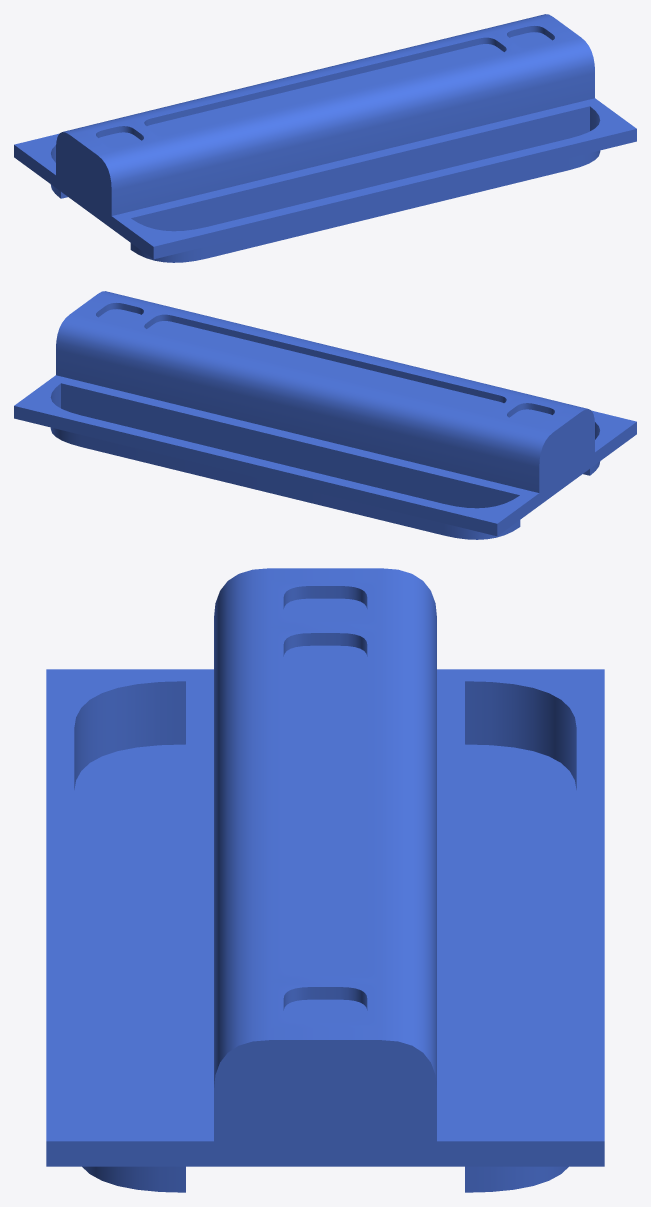
File: Ceiling_4x2m_D.FBX
3 renders of one model, top to bottom at view 1: azimuth 30°, elevation 25°; view 2: azimuth 150°, elevation 25°; view 3: azimuth 270°, elevation 25°, orthographic. The views are drawn at different scales.
Visible parts, largest first — view 1: Ceiling_4x2m_D; view 2: Ceiling_4x2m_D; view 3: Ceiling_4x2m_D.
Part boxes in pixels (x1,y1,x2,y2): Ceiling_4x2m_D: (14,14,636,262); Ceiling_4x2m_D: (14,291,636,539); Ceiling_4x2m_D: (46,568,604,1192).
Size of the model in its own units: 400 by 65 by 200.
